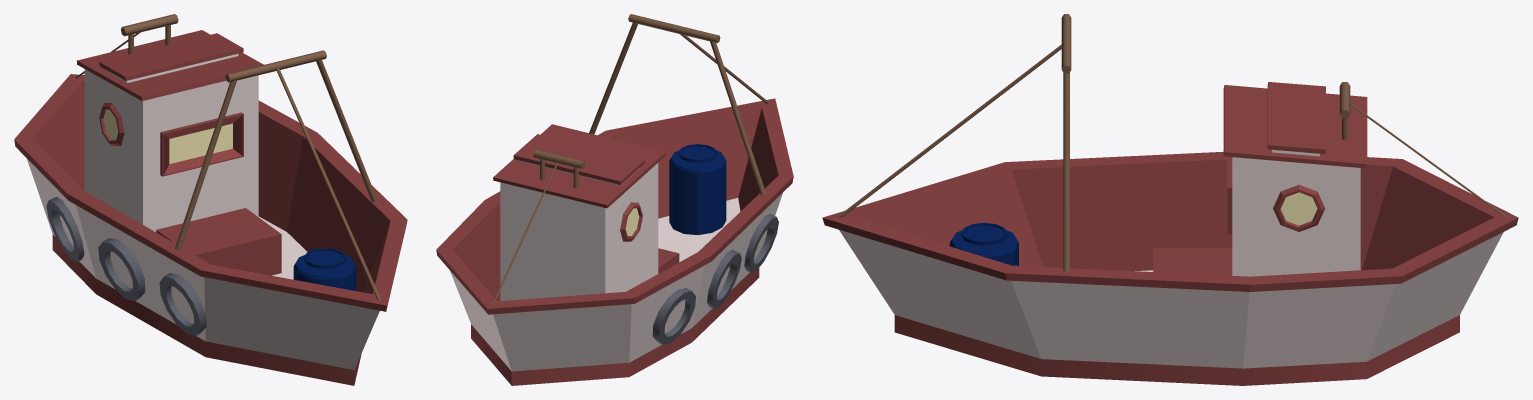
The model's file is Boat04.fbx.
3 views of the same model, side by side, from view 1: azimuth 30°, elevation 25°; view 2: azimuth 150°, elevation 25°; view 3: azimuth 270°, elevation 25° (orthographic). The views are drawn at different scales.
Visible parts, largest first — view 1: Boat04; view 2: Boat04; view 3: Boat04.
Part boxes in pixels (x1=…): Boat04: x1=14, y1=14, x2=407, y2=385; Boat04: x1=436, y1=14, x2=793, y2=385; Boat04: x1=822, y1=14, x2=1518, y2=385.
Size of the model in its own units: 118 by 259 by 120.
